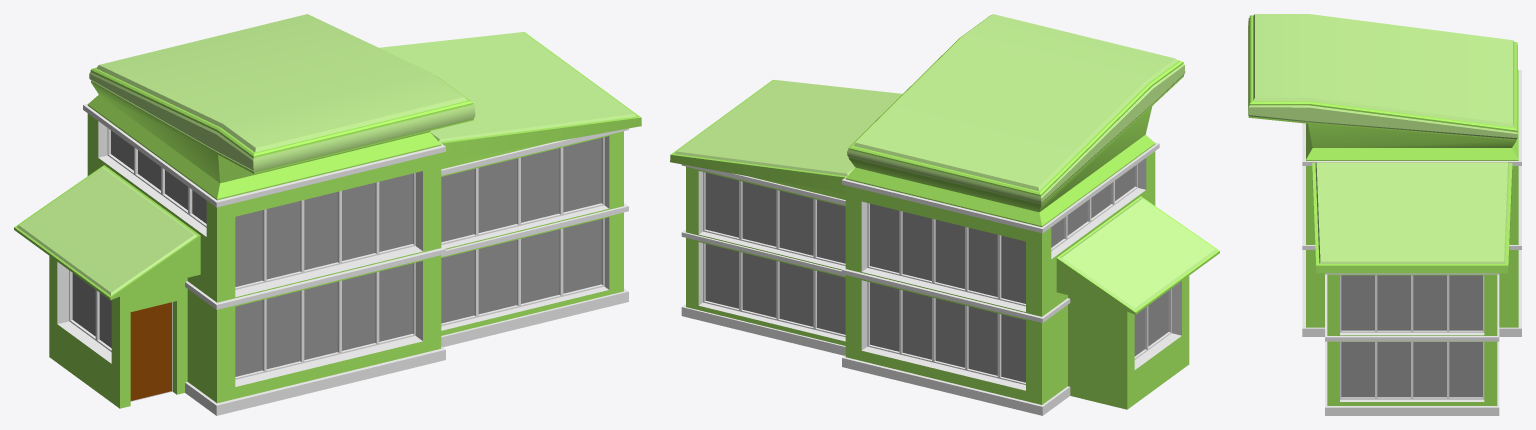
File: SM_House_09_02.FBX
3 renders of one model, left to right at view 1: azimuth 30°, elevation 25°; view 2: azimuth 150°, elevation 25°; view 3: azimuth 270°, elevation 25°, orthographic. The views are drawn at different scales.
Visible parts, largest first — view 1: SM_House_09_02; view 2: SM_House_09_02; view 3: SM_House_09_02.
Part boxes in pixels (x1=…): SM_House_09_02: x1=14, y1=14, x2=641, y2=415; SM_House_09_02: x1=670, y1=14, x2=1219, y2=415; SM_House_09_02: x1=1248, y1=14, x2=1521, y2=415.
Bounding box in the file's own units: 13.96 × 7.33 × 7.72.
Materials: 1 (1 with a texture image).
